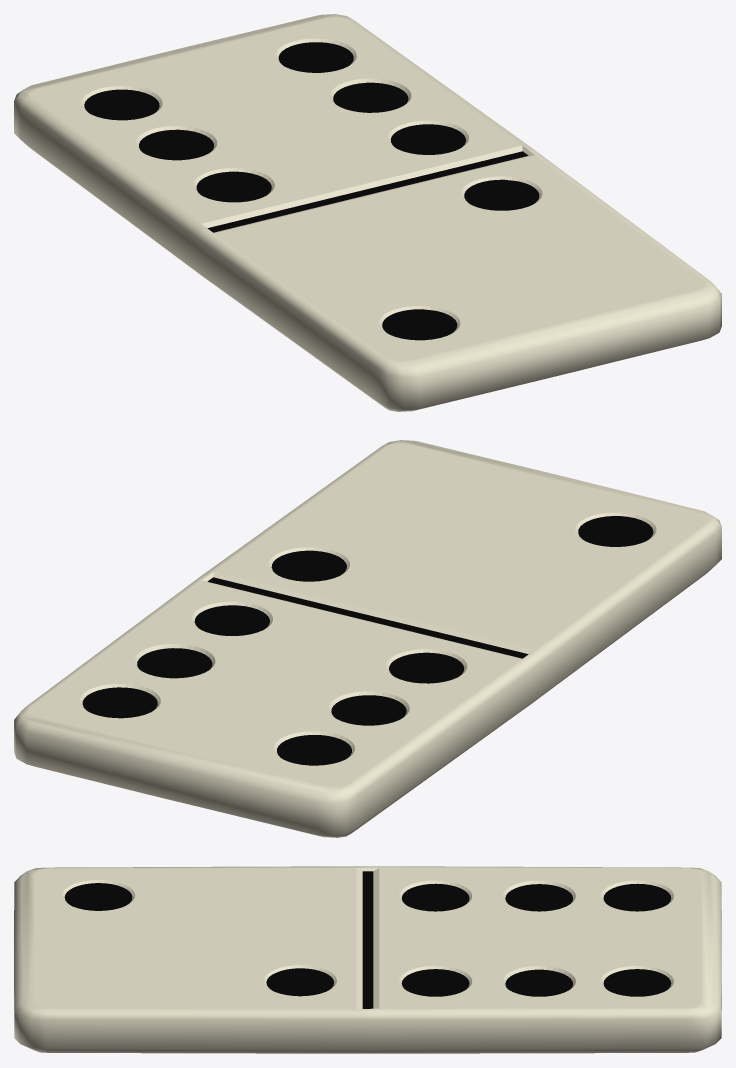
Rendered from Domino_2_6.glb.
3 views of the same model, one above another, from view 1: azimuth 30°, elevation 25°; view 2: azimuth 150°, elevation 25°; view 3: azimuth 270°, elevation 25° (orthographic). The views are drawn at different scales.
Parts seen in each view (by area): view 1: Domino_2_6_A.001, Domino_2_6_B.001; view 2: Domino_2_6_B.001, Domino_2_6_A.001; view 3: Domino_2_6_A.001, Domino_2_6_B.001.
Boxes of the visible parts, box(x1,y1,x2,y2) form: Domino_2_6_A.001: box(197, 149, 721, 411); Domino_2_6_B.001: box(14, 14, 533, 276); Domino_2_6_B.001: box(14, 575, 538, 837); Domino_2_6_A.001: box(202, 440, 721, 702); Domino_2_6_A.001: box(14, 866, 367, 1053); Domino_2_6_B.001: box(368, 866, 721, 1053).
Size of the model in its own units: 0.7725 by 0.1053 by 1.54.
